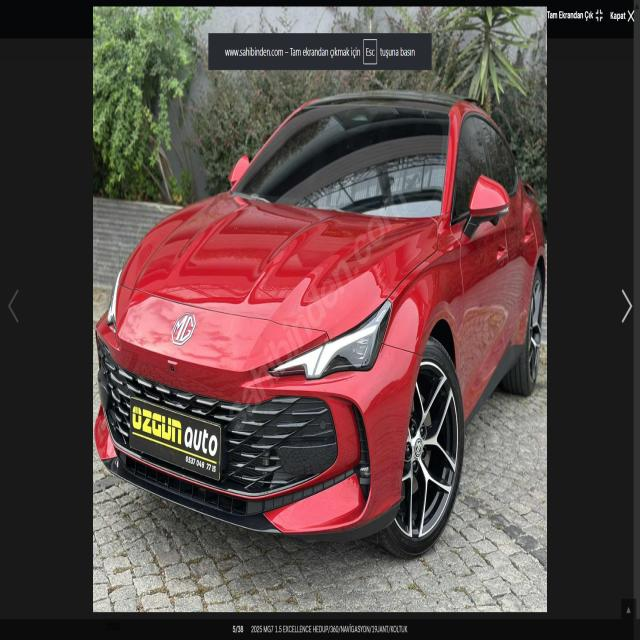mg: (167, 299, 201, 353)
